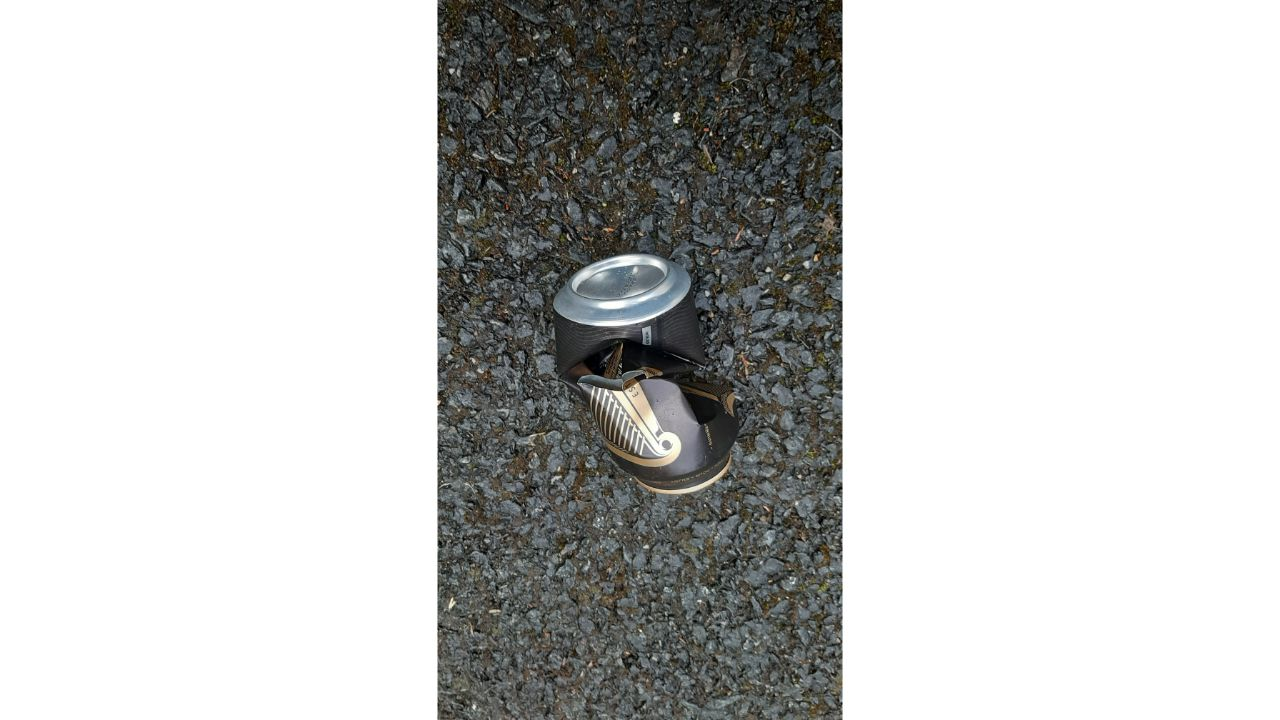Can: (550, 253, 741, 497)
